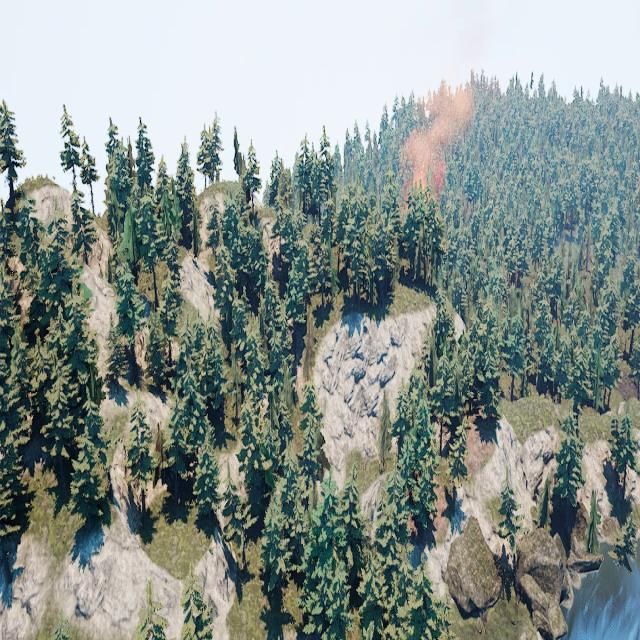smoke: (400, 70, 475, 209)
